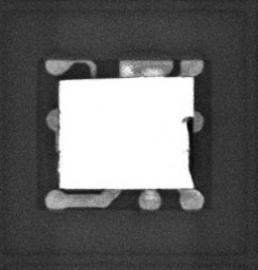DIE_BROKEN: (180, 114, 196, 184)
